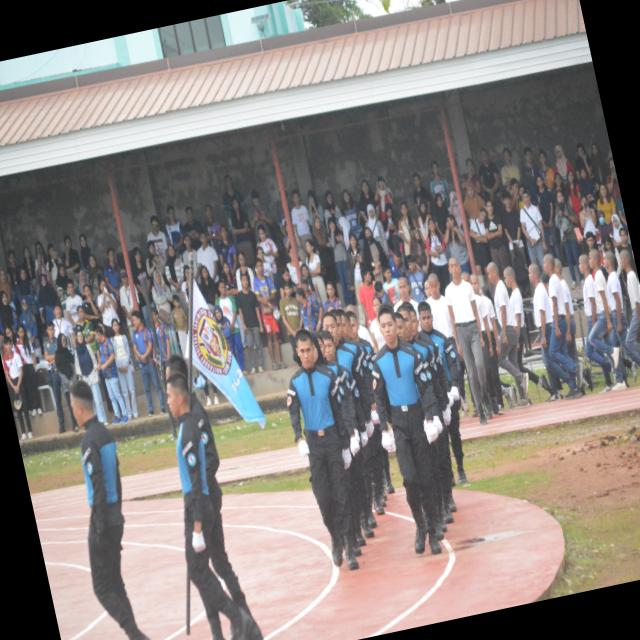person: (166, 373, 254, 639), (70, 381, 148, 639), (286, 331, 358, 570), (371, 305, 440, 554), (189, 396, 250, 617), (417, 302, 466, 483), (445, 259, 491, 424), (486, 263, 528, 400), (528, 264, 568, 401), (578, 255, 612, 391), (42, 322, 76, 433), (131, 311, 165, 416), (253, 260, 285, 370), (94, 324, 128, 424), (74, 332, 107, 426), (3, 339, 32, 440), (235, 273, 262, 374), (111, 319, 138, 418), (519, 191, 546, 266), (278, 283, 301, 366)
